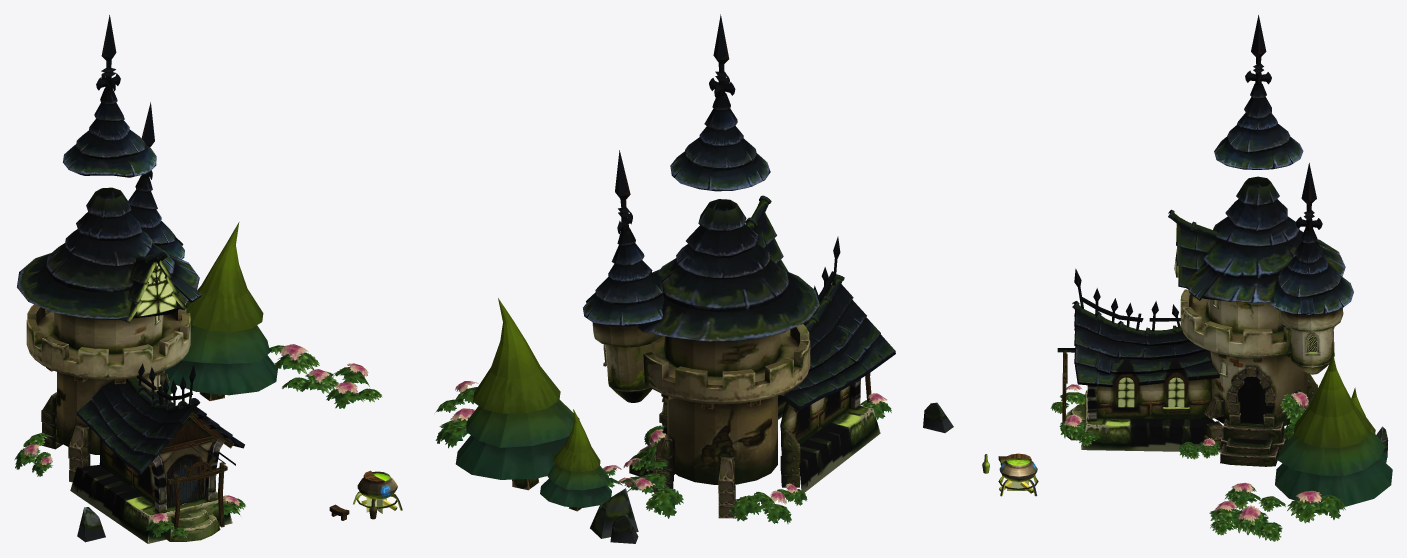
File: witchhouse.glb
The picture shows the model from 3 angles, left to right: view 1: azimuth 30°, elevation 25°; view 2: azimuth 150°, elevation 25°; view 3: azimuth 270°, elevation 25°; orthographic projection. The views are drawn at different scales.
Visible parts, largest first — view 1: Object_4; view 2: Object_4; view 3: Object_4.
Boxes of the visible parts, left/top/right/bottom form: Object_4: left=14, top=15, right=402, bottom=543; Object_4: left=435, top=14, right=953, bottom=543; Object_4: left=982, top=15, right=1392, bottom=541.
Size of the model in its own units: 8.6 by 9.88 by 8.5.
Materials: 1 (1 with a texture image).
